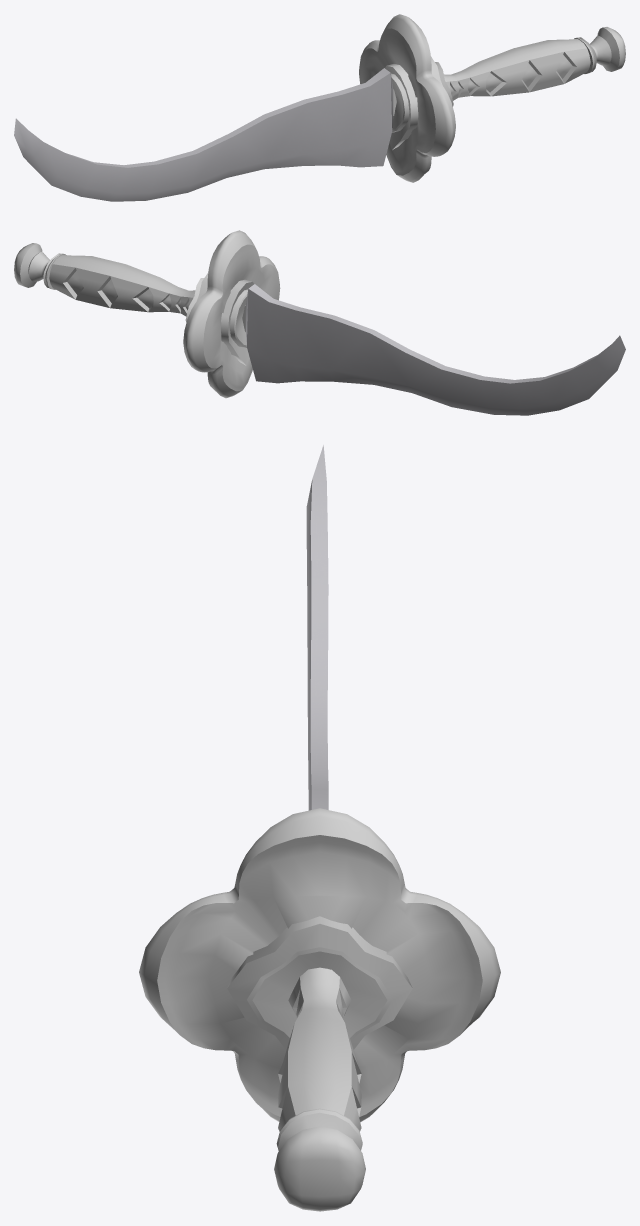
File: Tanto.fbx
3 views of the same model, one above another, from view 1: azimuth 30°, elevation 25°; view 2: azimuth 150°, elevation 25°; view 3: azimuth 270°, elevation 25° (orthographic). The views are drawn at different scales.
Visible parts, largest first — view 1: sword_low; view 2: sword_low; view 3: sword_low.
Part boxes in pixels (x1,y1,x2,y2): sword_low: [14, 14, 625, 201]; sword_low: [14, 230, 625, 415]; sword_low: [139, 445, 500, 1211].
Size of the model in its own units: 165 by 42.78 by 42.78.
